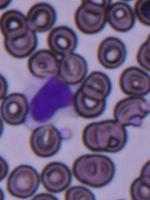L: (21, 72, 76, 127)
